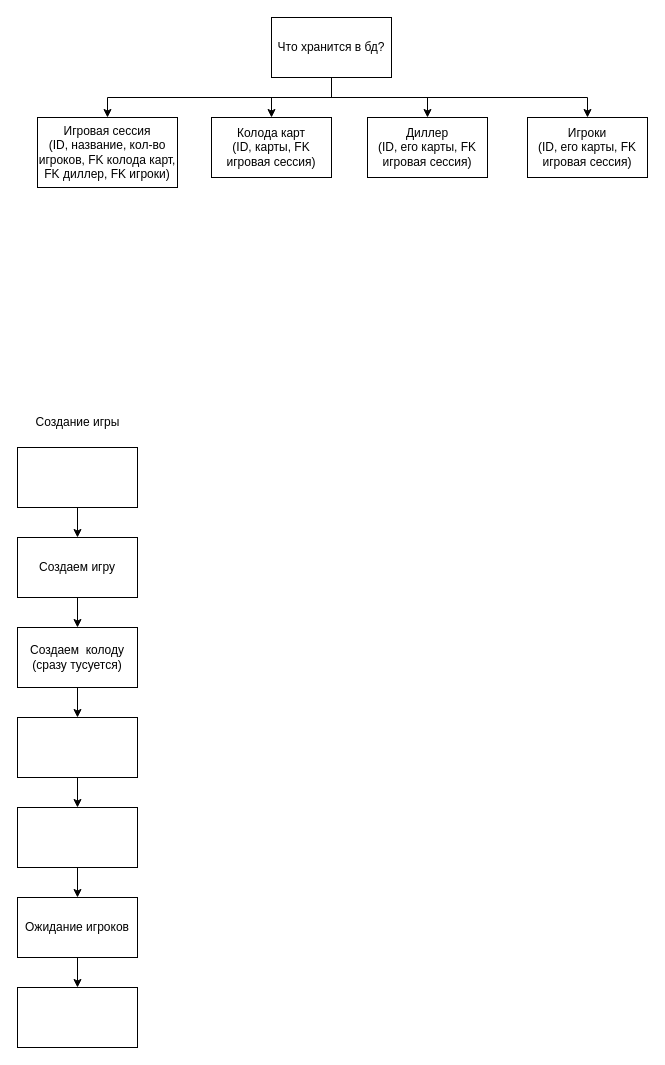
Image size: 665x1065. Some labels were removed from this diagram. The box of each missing label's shape, as (x1, y1, x2, y2) in pixels:
Диллер сразу вытягивает свои карты: (16, 716, 138, 778)
Конец: (16, 986, 138, 1048)
Начало: (16, 446, 138, 508)
Сохраняем состояние игры, колоду, диллера в бд: (16, 806, 138, 868)
